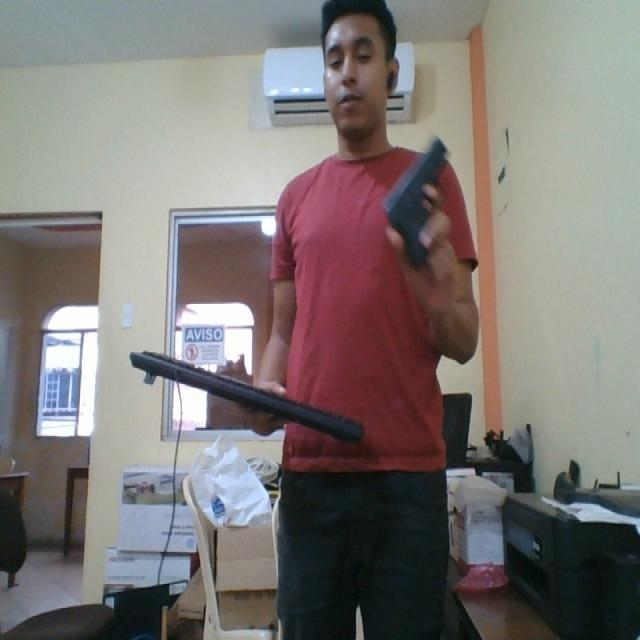weapon: (378, 136, 451, 269)
